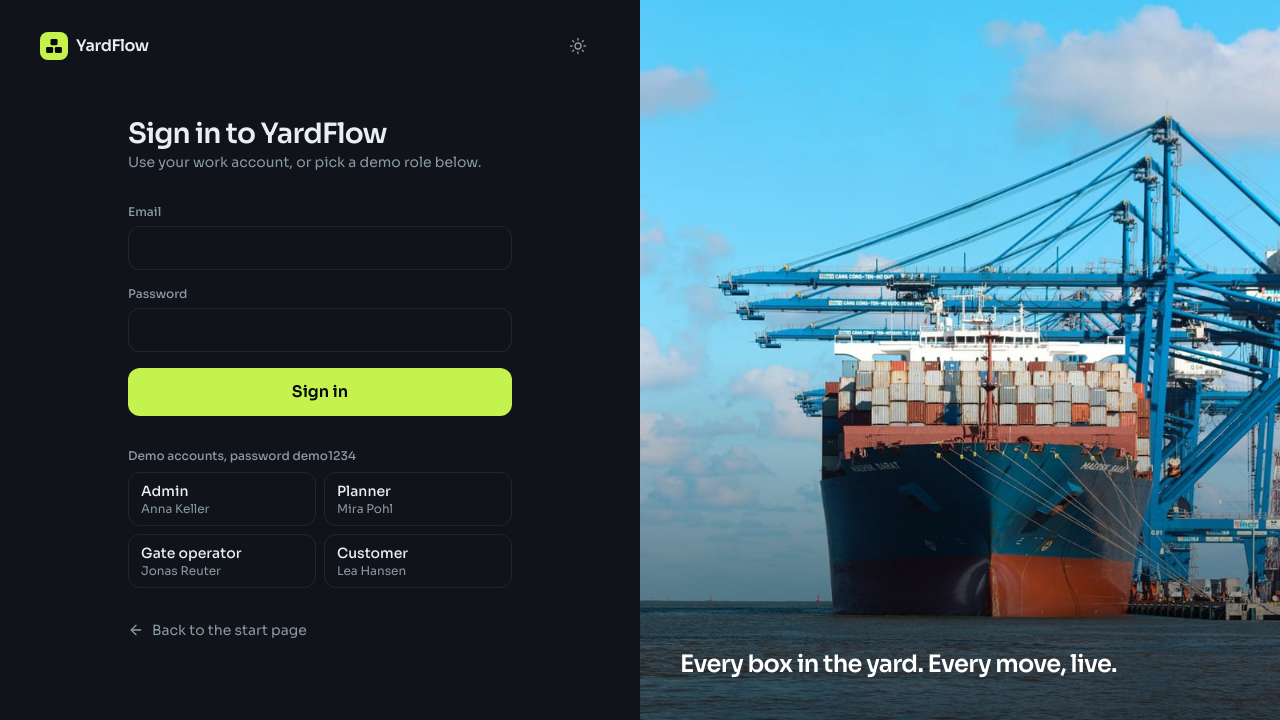
login page › fills both fields from a demo account button
Click the button "Gate operator Jonas Reuter" at (222, 561), box x1=128 y1=534 x2=316 y2=588
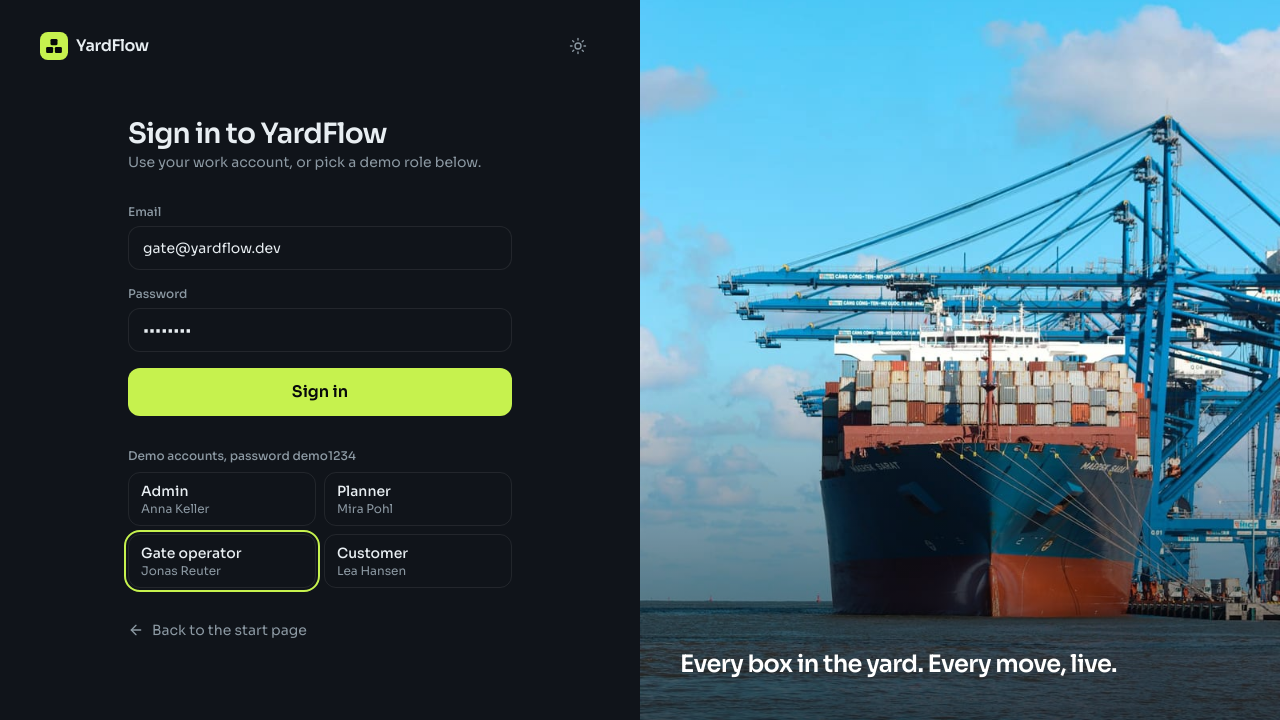
Check: the field labelled "Email" holds "gate@yardflow.dev", box x1=128 y1=226 x2=512 y2=270
Check: the password field labelled "Password" holds "demo1234", box x1=128 y1=308 x2=512 y2=352
